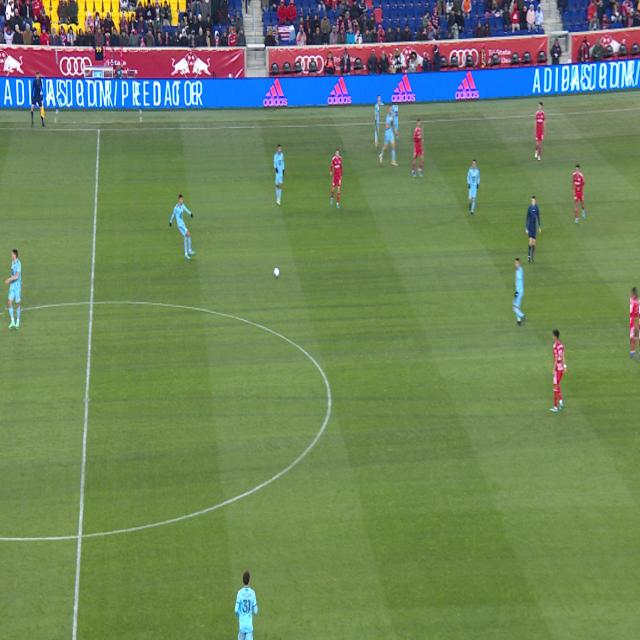football: (274, 268, 279, 277)
player: (169, 194, 195, 259), (235, 569, 258, 640), (550, 329, 567, 412), (6, 249, 21, 328), (379, 105, 398, 166), (512, 258, 526, 326), (572, 164, 585, 223), (467, 159, 480, 218), (330, 149, 342, 209), (630, 288, 640, 359), (534, 102, 546, 161), (412, 119, 424, 177), (274, 144, 285, 205), (375, 95, 385, 147)
referee: (525, 195, 541, 263)
